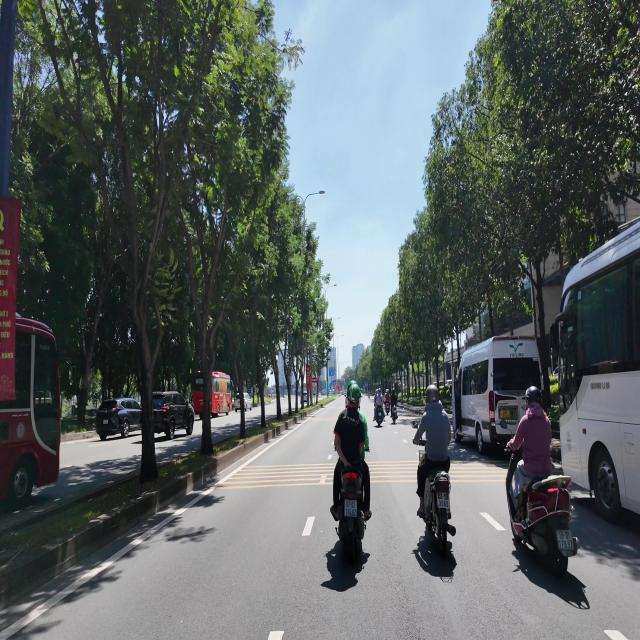car: (153, 392, 194, 439), (96, 398, 141, 440), (234, 393, 252, 411)
motorcycle: (506, 450, 579, 576), (424, 469, 455, 555), (337, 467, 365, 562), (375, 406, 384, 426), (391, 404, 397, 424), (385, 402, 389, 414)
